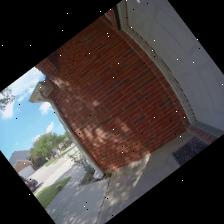person: (20, 176, 30, 185)
